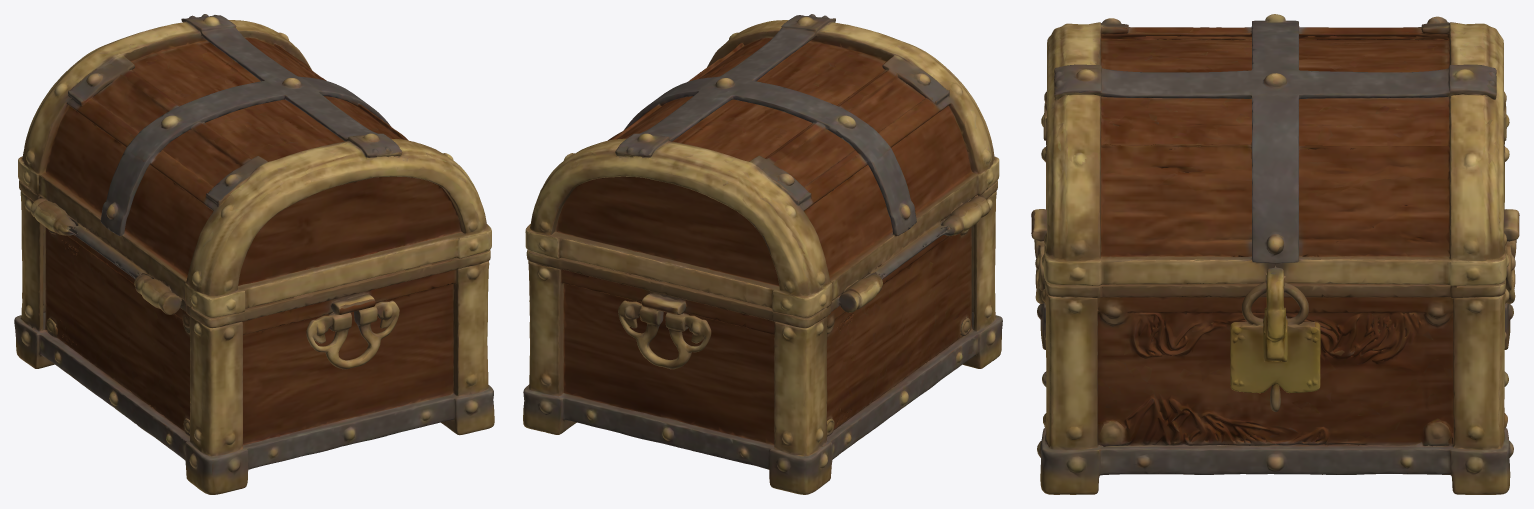
The model's file is chest.glb.
3 renders of one model, left to right at view 1: azimuth 30°, elevation 25°; view 2: azimuth 150°, elevation 25°; view 3: azimuth 270°, elevation 25°, orthographic. The views are drawn at different scales.
Size of the model in its own units: 0.9259 by 0.8214 by 1.
1 material, 1 textured.
